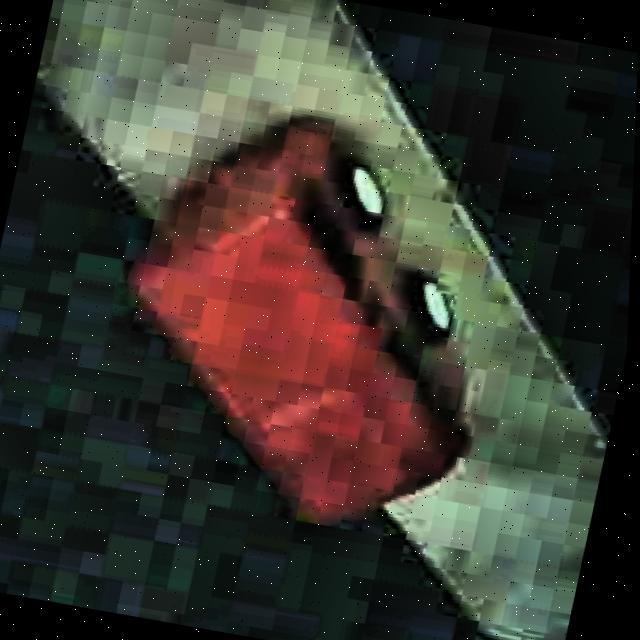bus: (82, 81, 533, 549)
